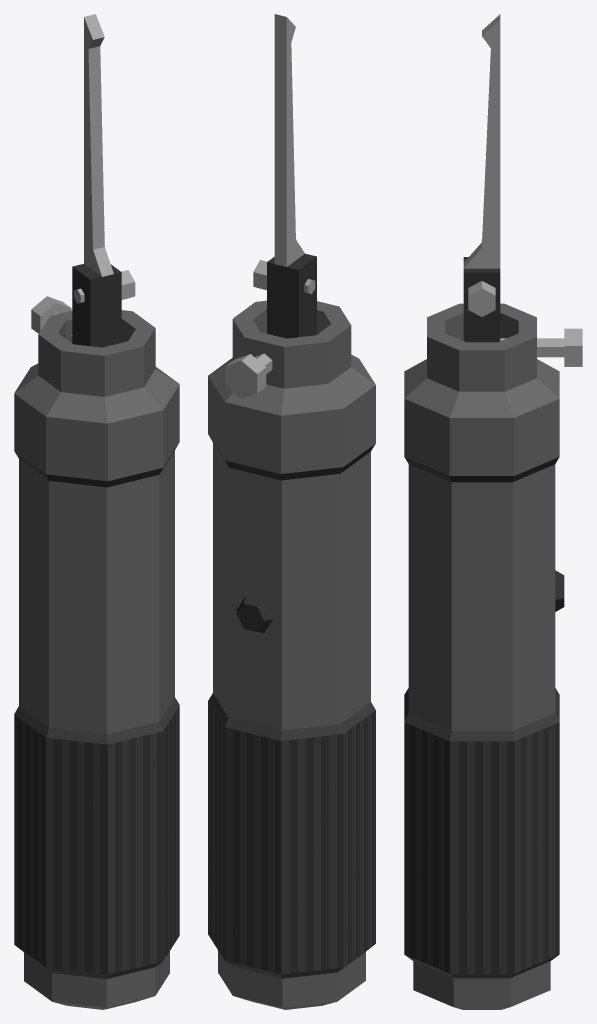
The model's file is FbxKitDeCrochetage.fbx.
3 views of the same model, side by side, from view 1: azimuth 30°, elevation 25°; view 2: azimuth 150°, elevation 25°; view 3: azimuth 270°, elevation 25° (orthographic).
Parts seen in each view (by area): view 1: lockpick - body; view 2: lockpick - body; view 3: lockpick - body.
Boxes of the visible parts, <box> form: lockpick - body: <box>14,14,179,1009</box>; lockpick - body: <box>208,14,375,1009</box>; lockpick - body: <box>404,14,582,1009</box>.
Size of the model in its own units: 3.4 by 23.5 by 3.9.
1 material, 1 textured.
